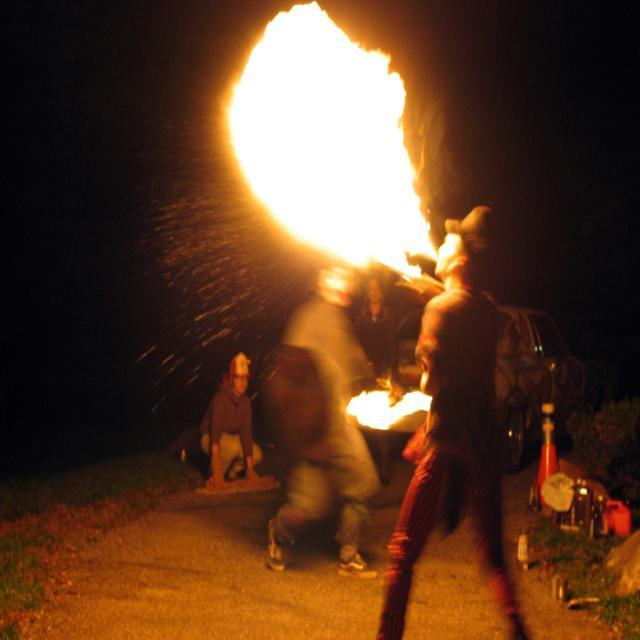Fire: (252, 13, 428, 260), (347, 392, 425, 425)
